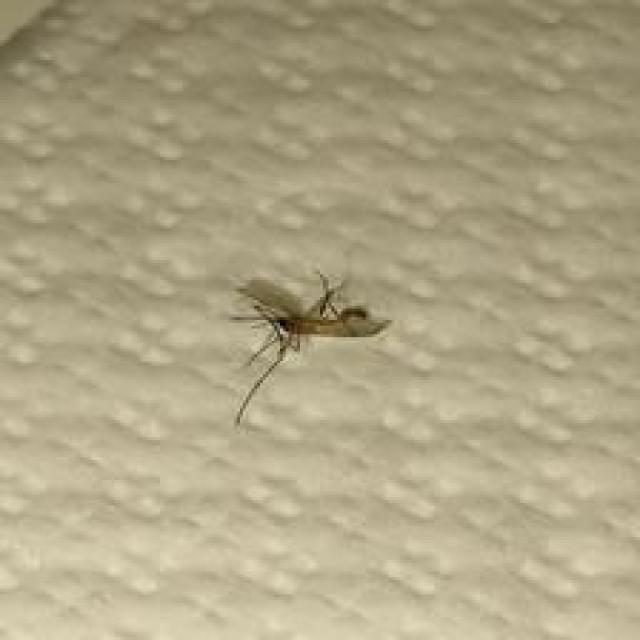Culex: (227, 267, 393, 427)
